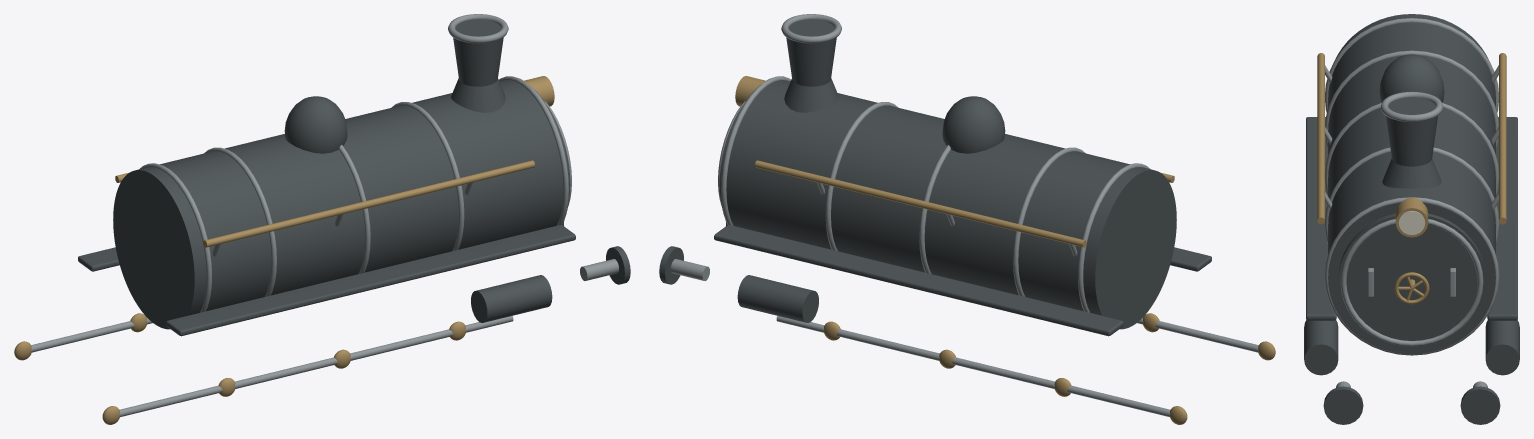
The model's file is locomotive_machinery.glb.
The picture shows the model from 3 angles, left to right: view 1: azimuth 30°, elevation 25°; view 2: azimuth 150°, elevation 25°; view 3: azimuth 270°, elevation 25°; orthographic projection. The views are drawn at different scales.
Parts seen in each view (by area): view 1: Structure_Mesh; view 2: Structure_Mesh; view 3: Structure_Mesh.
Part boxes in pixels (x1,y1,x2,y2): Structure_Mesh: (14, 14, 630, 424); Structure_Mesh: (659, 14, 1275, 424); Structure_Mesh: (1304, 14, 1519, 424).
Bounding box in the file's own units: 7.34 × 3.54 × 2.52.
